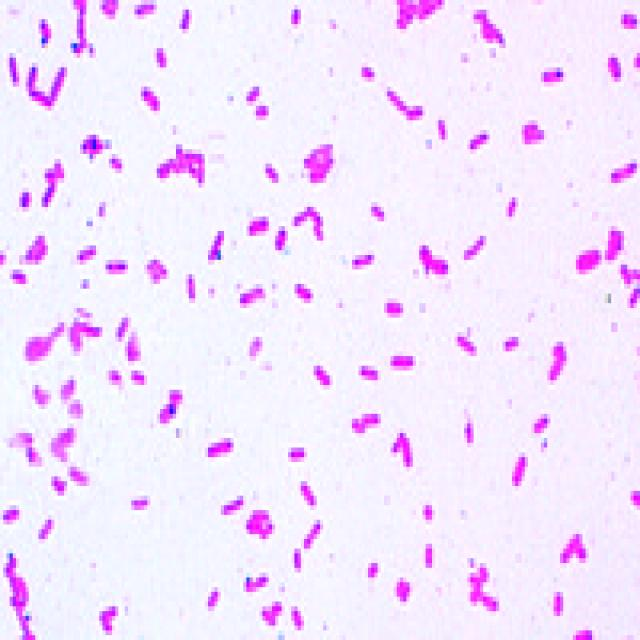Amoeba: (3, 0, 640, 635)
